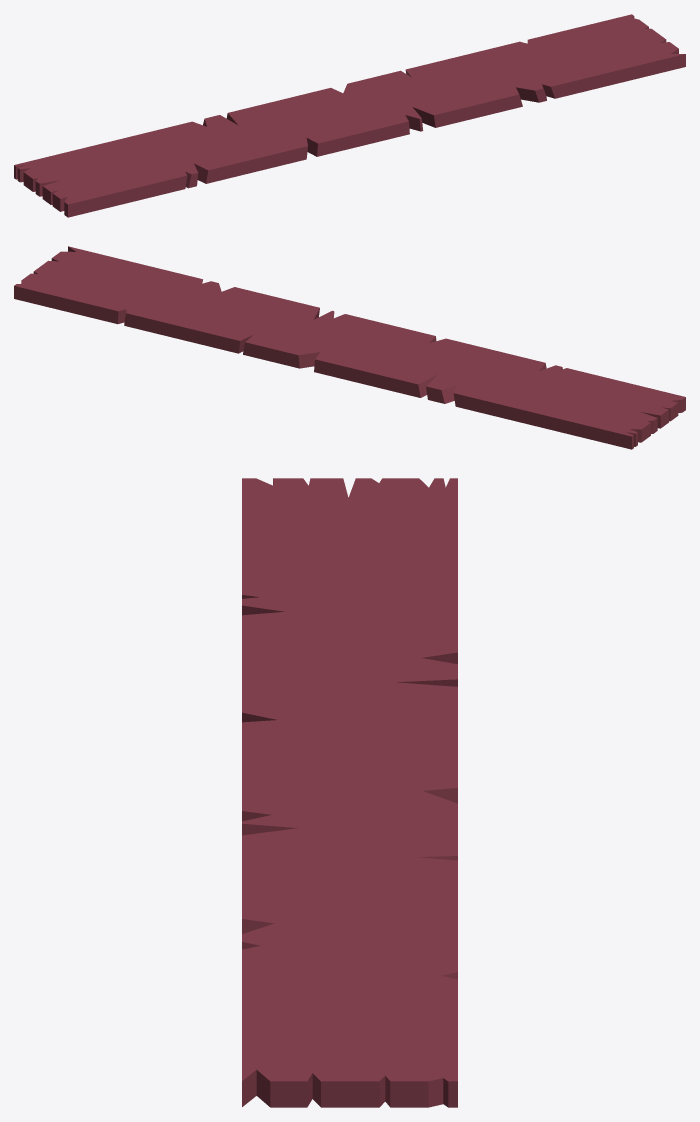
The model's file is PROJECT DREAM - Medium Plank.fbx.
3 renders of one model, top to bottom at view 1: azimuth 30°, elevation 25°; view 2: azimuth 150°, elevation 25°; view 3: azimuth 270°, elevation 25°, orthographic. The views are drawn at different scales.
Parts seen in each view (by area): view 1: Medium Plank; view 2: Medium Plank; view 3: Medium Plank.
Boxes of the visible parts, left/top/right/bottom form: Medium Plank: left=14, top=14, right=685, bottom=217; Medium Plank: left=14, top=246, right=685, bottom=449; Medium Plank: left=242, top=478, right=457, bottom=1107.
Bounding box in the file's own units: 990 × 20 × 150.
